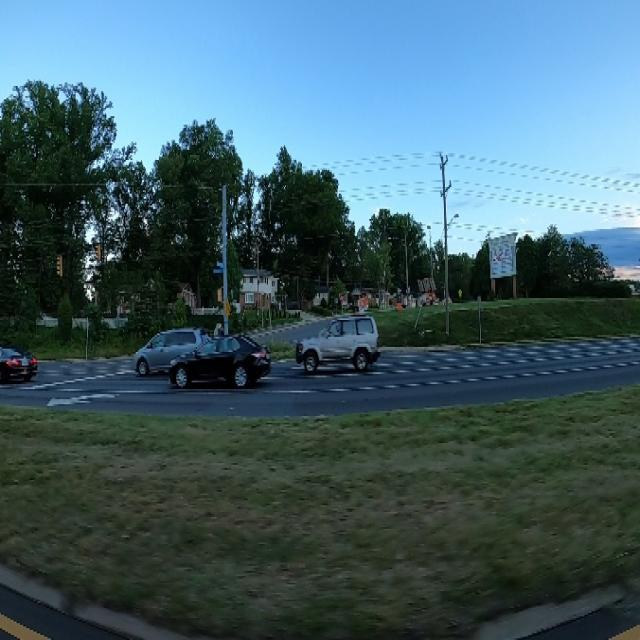cars: (291, 307, 381, 394), (168, 323, 272, 398), (132, 320, 212, 379), (0, 330, 37, 394)
